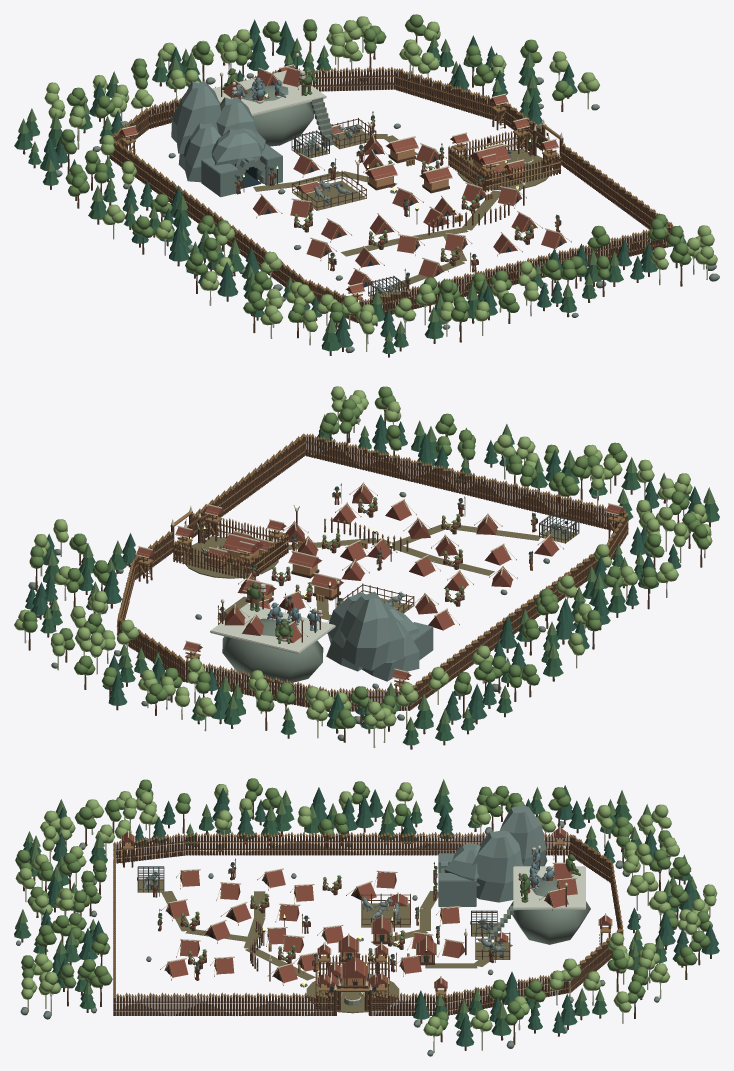
Rendered from fortified-warcamp-v6.glb.
3 views of the same model, one above another, from view 1: azimuth 30°, elevation 25°; view 2: azimuth 150°, elevation 25°; view 3: azimuth 270°, elevation 25° (orthographic). The views are drawn at different scales.
Visible parts, largest first — view 1: fortified-warcamp-v6 Dark timber beams, fortified-warcamp-v6 Soft meadow birch leaves, fortified-warcamp-v6 Broad oak foliage, fortified-warcamp-v6 Red ochre hide, fortified-warcamp-v6 Faceted mountain granite, fortified-warcamp-v6 Deep fir needles, fortified-warcamp-v6 Forest deep needles, fortified-warcamp-v6 Warm cut timber, fortified-warcamp-v6 Packed camp earth, fortified-warcamp-v6 Forest new needles, fortified-warcamp-v6 Weathered foundation, fortified-warcamp-v6 Hide seams (+9 smaller); view 2: fortified-warcamp-v6 Dark timber beams, fortified-warcamp-v6 Soft meadow birch leaves, fortified-warcamp-v6 Broad oak foliage, fortified-warcamp-v6 Deep fir needles, fortified-warcamp-v6 Red ochre hide, fortified-warcamp-v6 Warm cut timber, fortified-warcamp-v6 Forest deep needles, fortified-warcamp-v6 Faceted mountain granite, fortified-warcamp-v6 Weathered foundation, fortified-warcamp-v6 Forest new needles, fortified-warcamp-v6 Hide seams, fortified-warcamp-v6 Packed camp earth (+7 smaller); view 3: fortified-warcamp-v6 Dark timber beams, fortified-warcamp-v6 Soft meadow birch leaves, fortified-warcamp-v6 Broad oak foliage, fortified-warcamp-v6 Red ochre hide, fortified-warcamp-v6 Deep fir needles, fortified-warcamp-v6 Faceted mountain granite, fortified-warcamp-v6 Warm cut timber, fortified-warcamp-v6 Forest deep needles, fortified-warcamp-v6 Packed camp earth, fortified-warcamp-v6 Weathered foundation, fortified-warcamp-v6 Forest new needles, fortified-warcamp-v6 Hide seams (+8 smaller).
Boxes of the visible parts, x1,y1,x2,y2 form: fortified-warcamp-v6 Dark timber beams: (23,35,682,357); fortified-warcamp-v6 Soft meadow birch leaves: (44,16,717,334); fortified-warcamp-v6 Broad oak foliage: (59,14,691,323); fortified-warcamp-v6 Red ochre hide: (119,66,565,293); fortified-warcamp-v6 Faceted mountain granite: (59,74,719,351); fortified-warcamp-v6 Deep fir needles: (40,19,657,347); fortified-warcamp-v6 Forest deep needles: (14,46,686,353); fortified-warcamp-v6 Warm cut timber: (112,66,673,315); fortified-warcamp-v6 Packed camp earth: (253,129,553,300); fortified-warcamp-v6 Forest new needles: (18,34,684,341); fortified-warcamp-v6 Weathered foundation: (55,52,717,353); fortified-warcamp-v6 Hide seams: (111,75,669,317); fortified-warcamp-v6 Dark timber beams: (28,408,710,749); fortified-warcamp-v6 Soft meadow birch leaves: (14,386,712,728); fortified-warcamp-v6 Broad oak foliage: (22,386,709,728); fortified-warcamp-v6 Deep fir needles: (25,414,701,728); fortified-warcamp-v6 Red ochre hide: (136,485,624,679); fortified-warcamp-v6 Warm cut timber: (117,433,628,705); fortified-warcamp-v6 Forest deep needles: (40,429,719,745); fortified-warcamp-v6 Faceted mountain granite: (30,582,433,681); fortified-warcamp-v6 Weathered foundation: (28,418,652,740); fortified-warcamp-v6 Forest new needles: (43,414,715,730); fortified-warcamp-v6 Hide seams: (116,442,628,707); fortified-warcamp-v6 Packed camp earth: (181,523,578,620); fortified-warcamp-v6 Dark timber beams: (21,802,711,1050); fortified-warcamp-v6 Soft meadow birch leaves: (15,782,717,1036); fortified-warcamp-v6 Broad oak foliage: (15,778,712,1030); fortified-warcamp-v6 Red ochre hide: (122,828,611,989); fortified-warcamp-v6 Deep fir needles: (39,785,719,1046); fortified-warcamp-v6 Faceted mountain granite: (16,805,664,1055); fortified-warcamp-v6 Warm cut timber: (113,832,623,1010); fortified-warcamp-v6 Forest deep needles: (14,794,698,1035); fortified-warcamp-v6 Packed camp earth: (138,880,512,1013); fortified-warcamp-v6 Weathered foundation: (16,821,677,1056); fortified-warcamp-v6 Forest new needles: (18,779,700,1018); fortified-warcamp-v6 Hide seams: (113,830,623,1011).
Size of the model in its own units: 56.01 by 9.55 by 68.18.
